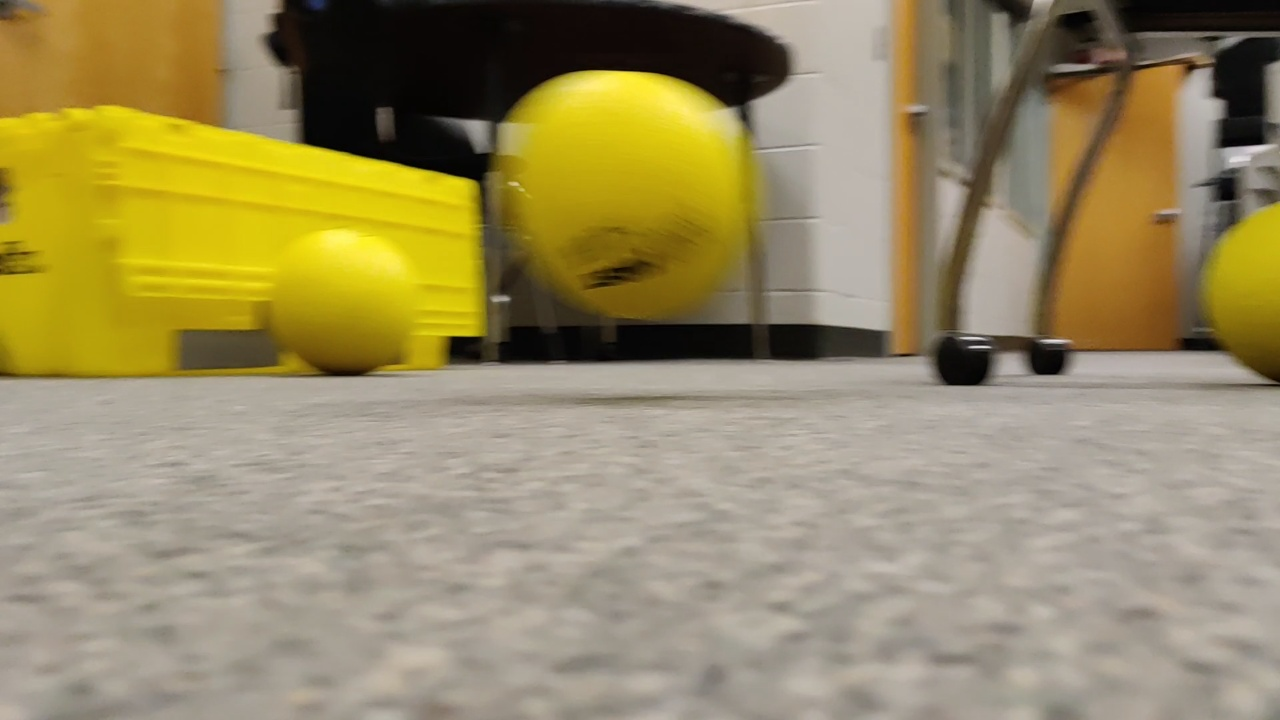Ball: (496, 74, 764, 317), (276, 233, 414, 378), (1205, 205, 1280, 375)
